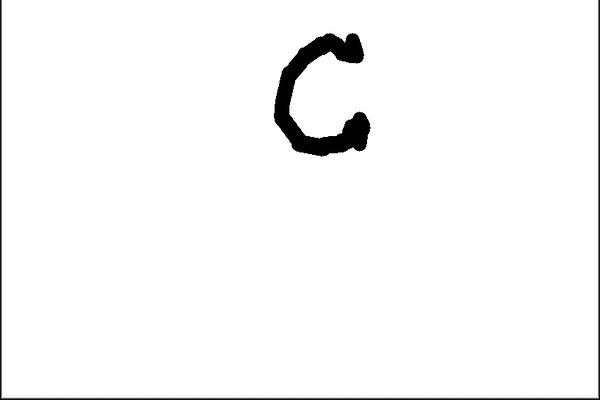C: (268, 28, 375, 157)
